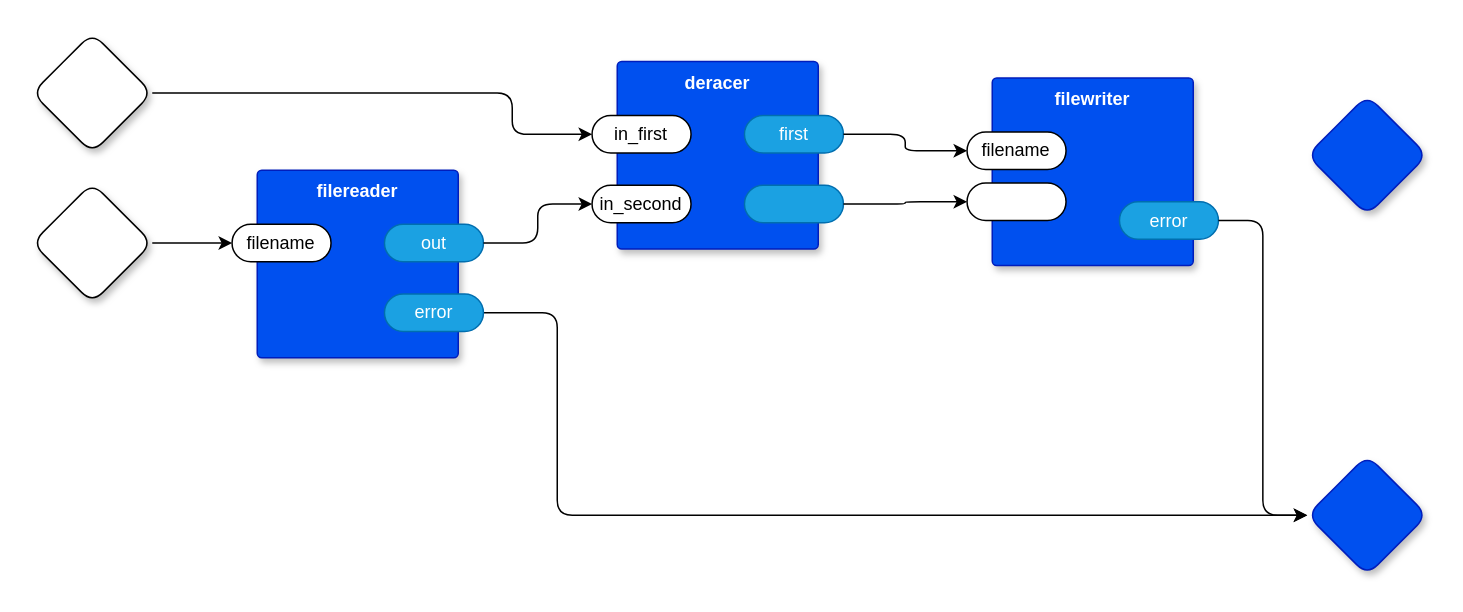
The diagram is 1463 pixels wide and 612 high, and some of its shapes have lost their labels. Here are the shapes that lost their labels. From the top down, the centre of each, then its label:
At point (93, 95): "output_file".
At point (1368, 157): "stdout".
At point (793, 203): "second".
At point (1016, 201): "data".
At point (93, 245): "input_file".
At point (1368, 517): "stderr".
